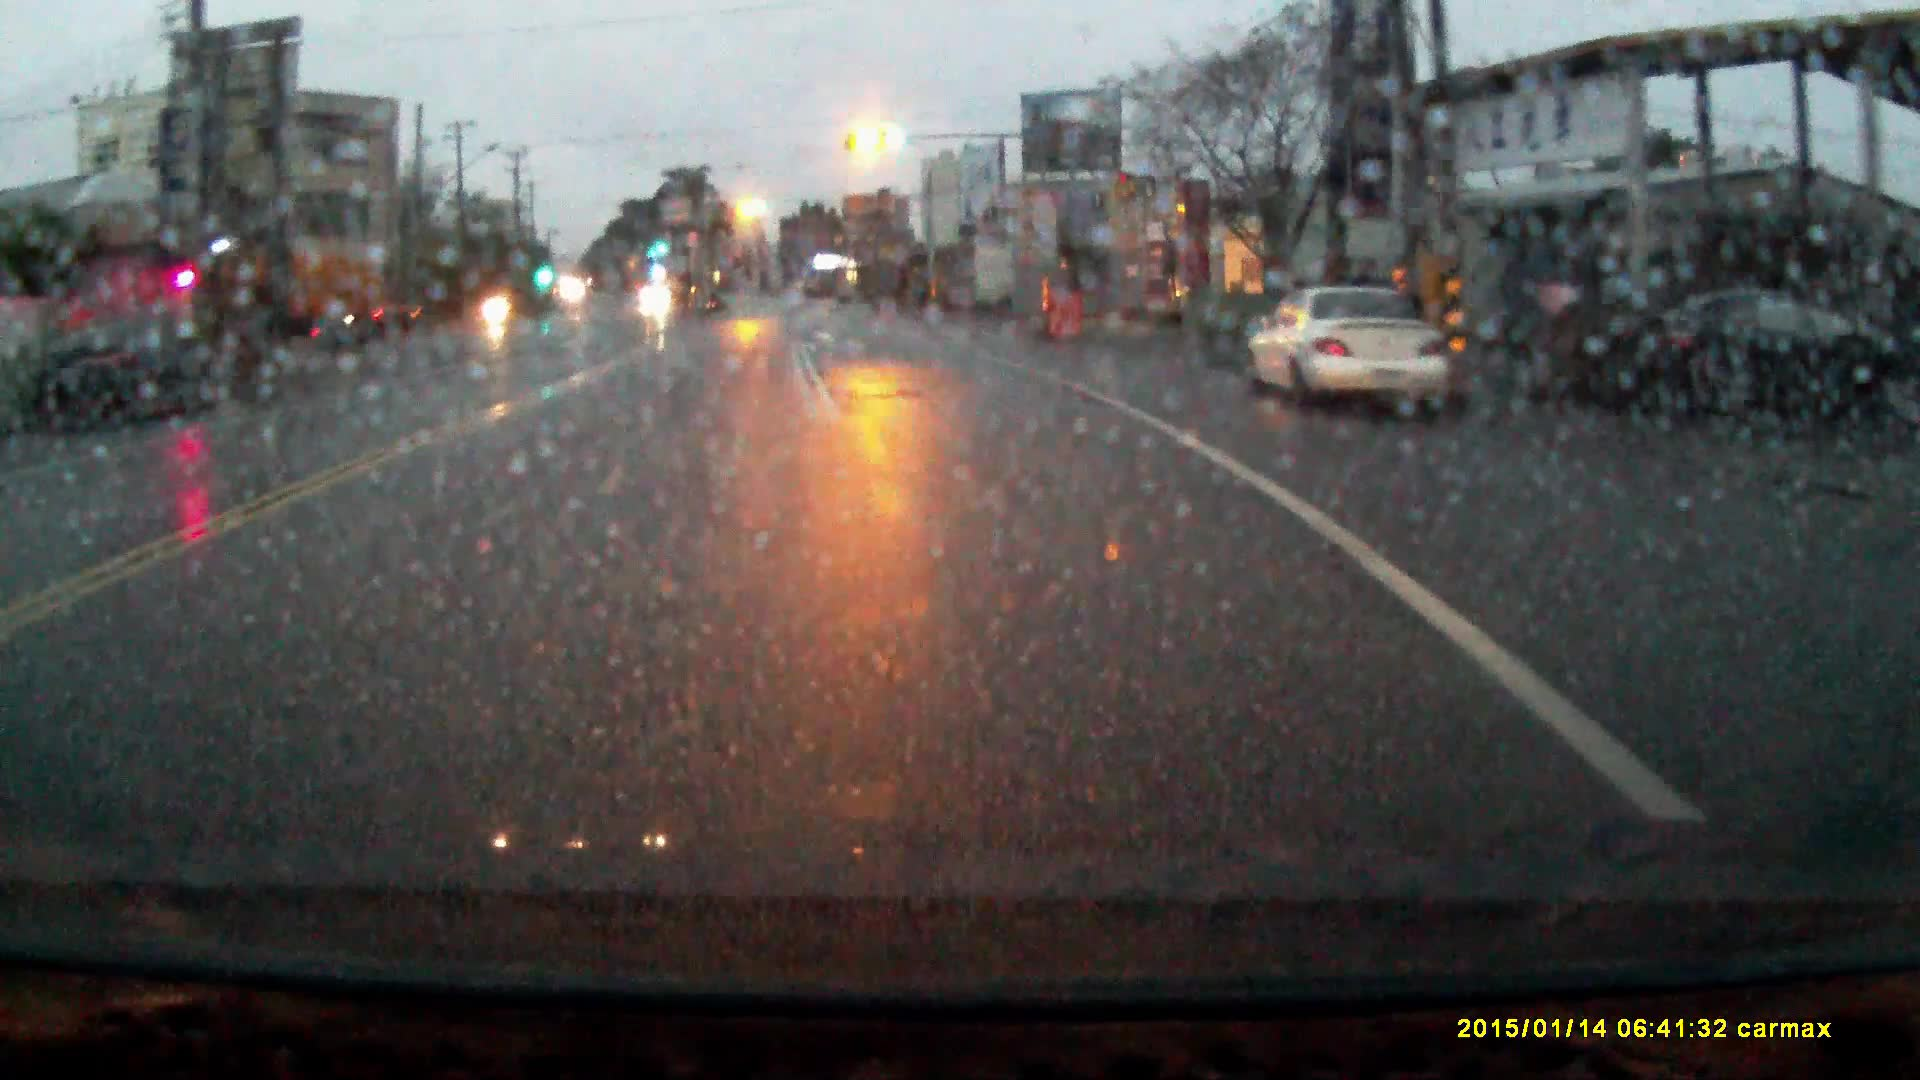rider: (477, 279, 510, 332)
vehicle: (1241, 289, 1453, 414), (230, 233, 418, 339), (45, 323, 226, 429), (640, 286, 671, 312)
